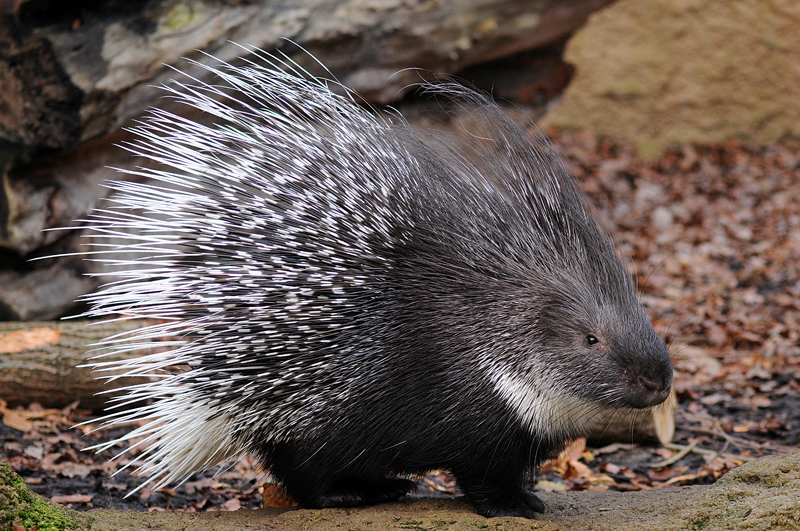porcupine: (61, 59, 673, 520)
